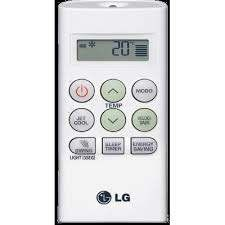remote control: (54, 2, 170, 225)
